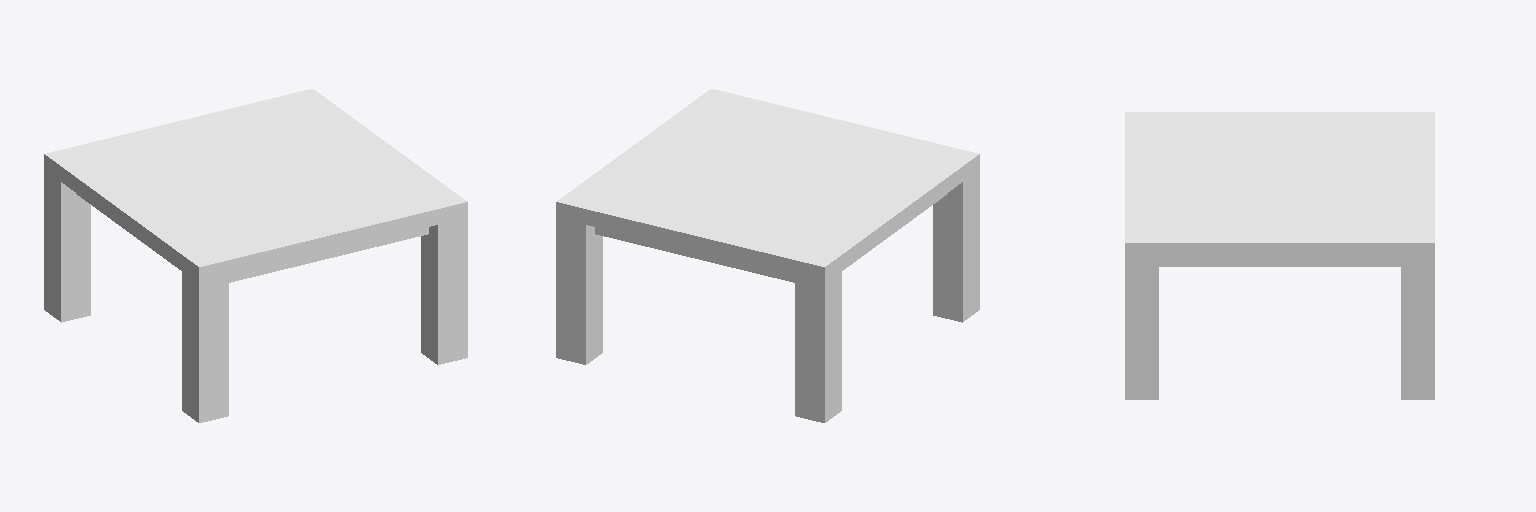
The model's file is Tableone.obj.
The picture shows the model from 3 angles: view 1: azimuth 30°, elevation 25°; view 2: azimuth 150°, elevation 25°; view 3: azimuth 270°, elevation 25°; orthographic projection.
Visible parts, largest first — view 1: object 1; view 2: object 1; view 3: object 1.
Boxes of the visible parts, box(x1,y1,x2,y2) form: object 1: box(44, 89, 467, 422); object 1: box(556, 89, 979, 422); object 1: box(1125, 112, 1434, 399).
Size of the model in its own units: 1.8 by 1 by 1.8.